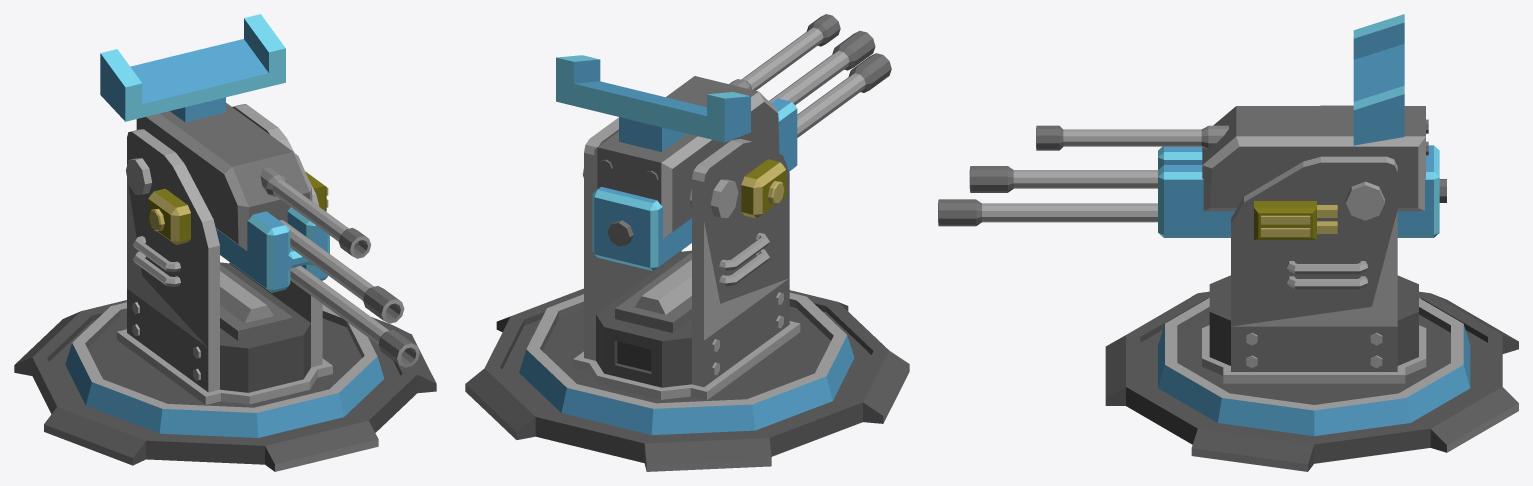
File: tower_machinegun_blue_3.fbx
3 views of the same model, side by side, from view 1: azimuth 30°, elevation 25°; view 2: azimuth 150°, elevation 25°; view 3: azimuth 270°, elevation 25° (orthographic). The views are drawn at different scales.
Parts seen in each view (by area): view 1: top_machinegun_blue_3, tower_machinegun_blue_3; view 2: top_machinegun_blue_3, tower_machinegun_blue_3; view 3: top_machinegun_blue_3, tower_machinegun_blue_3.
Boxes of the visible parts, x1,y1,x2,y2 form: top_machinegun_blue_3: (65,14,419,437); tower_machinegun_blue_3: (14,300,436,471); top_machinegun_blue_3: (519,14,891,435); tower_machinegun_blue_3: (465,288,909,471); top_machinegun_blue_3: (938,14,1470,436); tower_machinegun_blue_3: (1105,291,1518,471).
Size of the model in its own units: 172 by 142 by 229.
